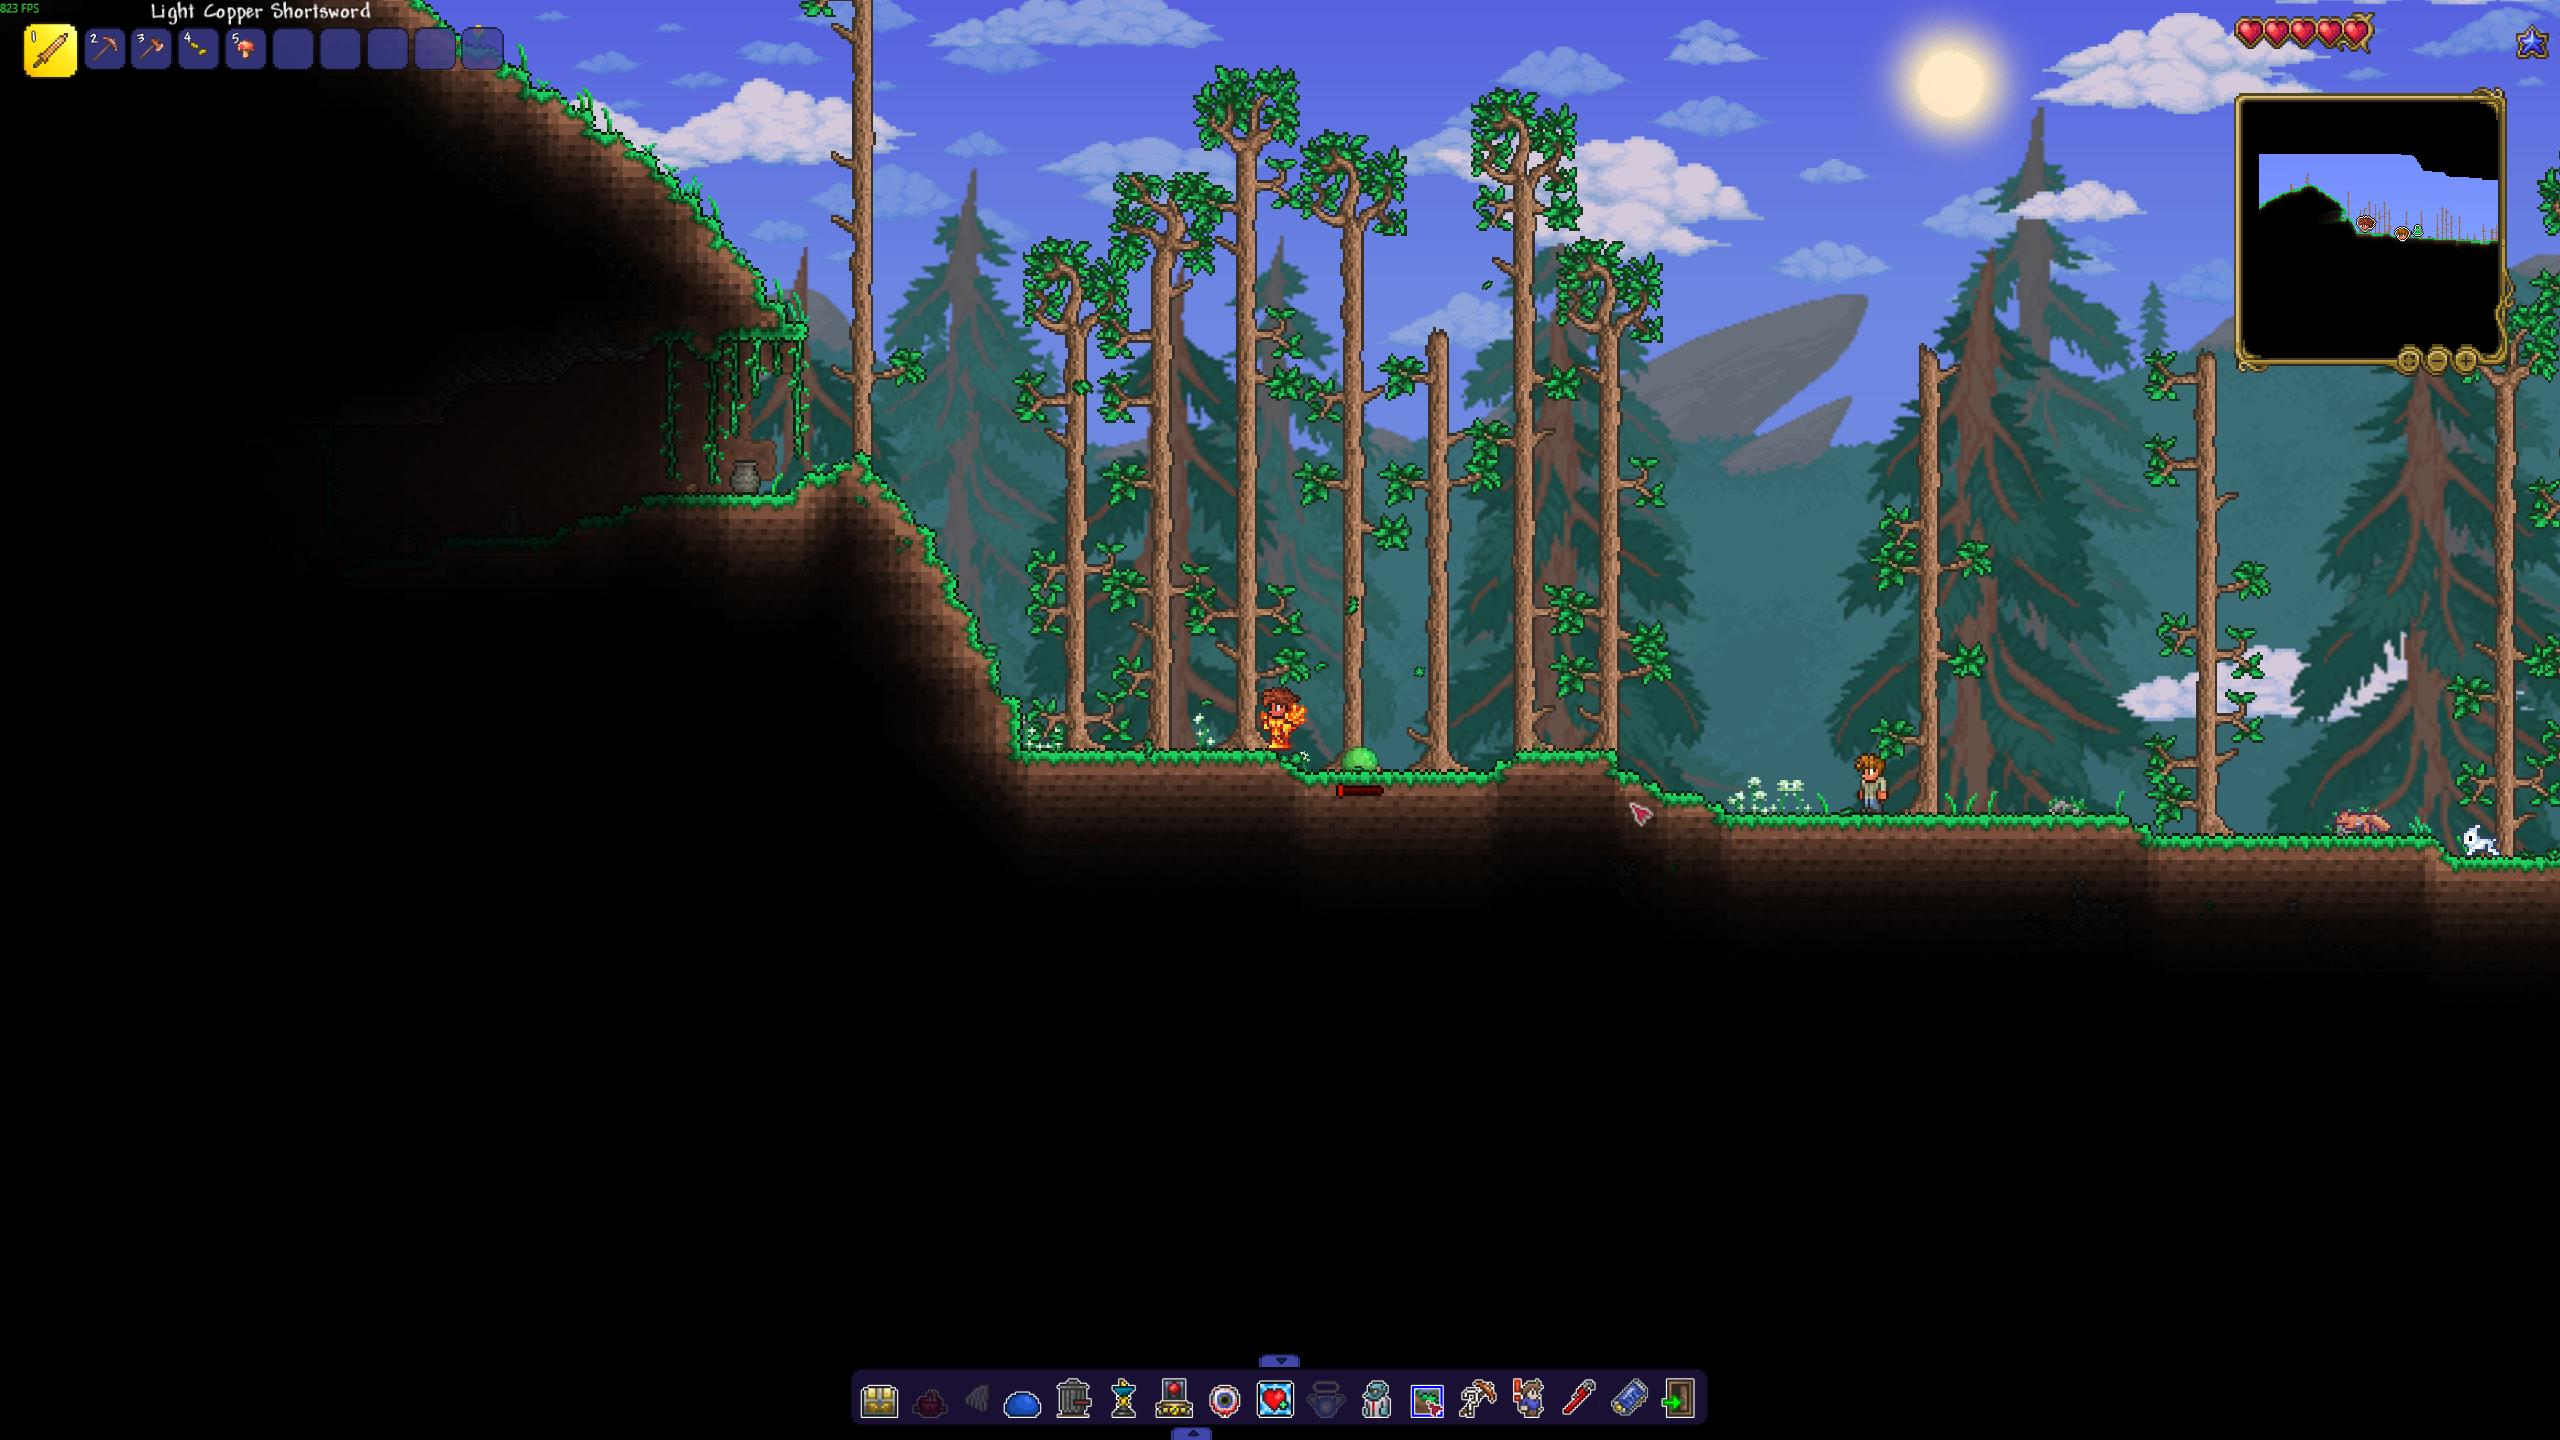Green Slime: (1338, 742, 1382, 779)
